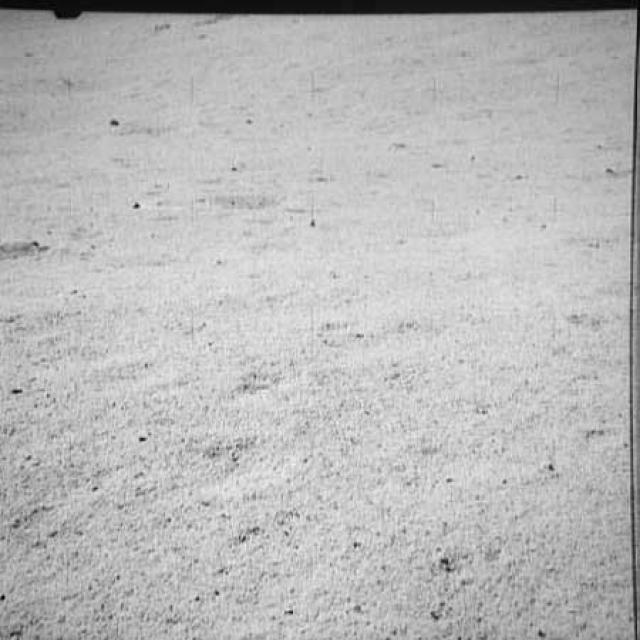crater: (135, 184, 292, 218), (5, 235, 50, 260)
